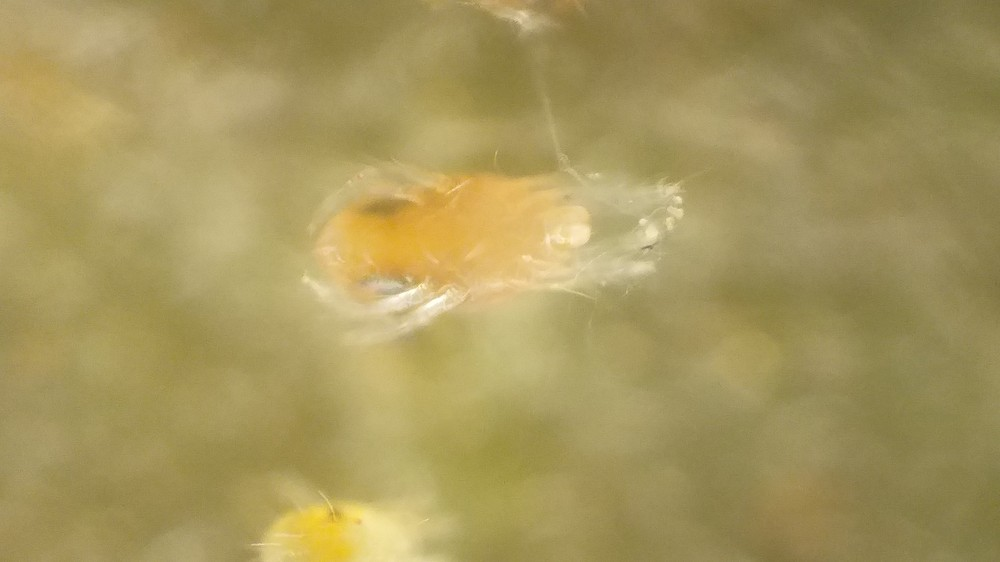Aracnido Rojo: (268, 126, 723, 352)
